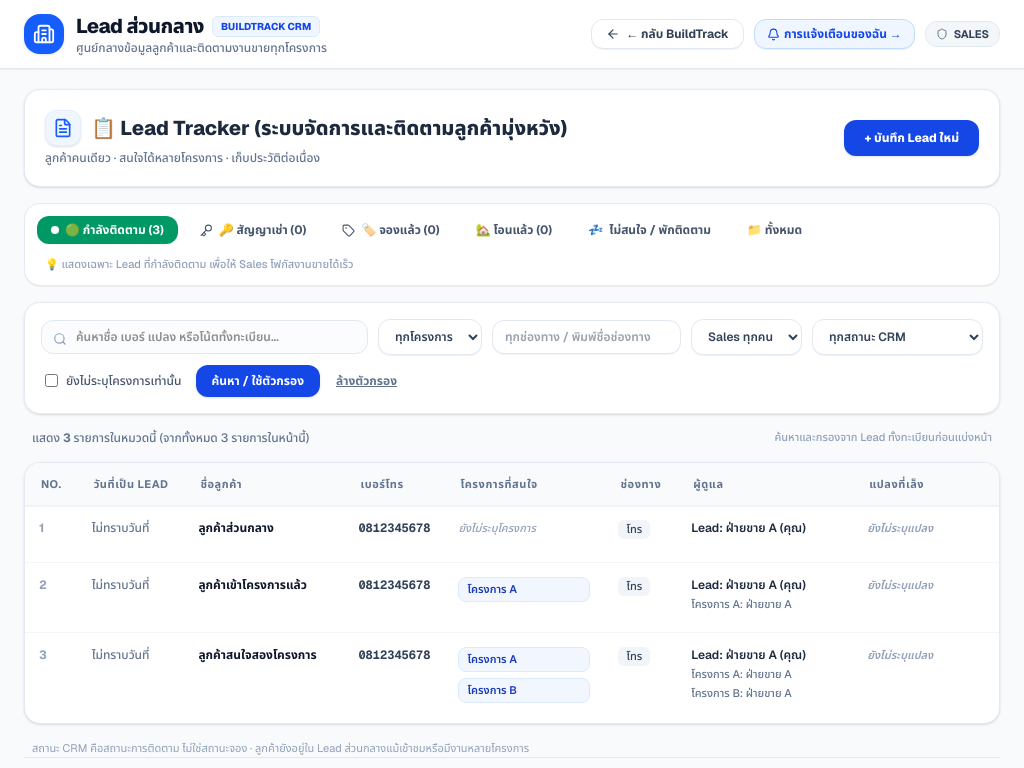
Test case: central lead workspace › hides the inbox while disabled or an intake form is open
Expected: the table is shown, 25,462 -> 999,723
What coordinates should you click on to do the following:
click the button "+ บันทึก Lead ใหม่"
I would click on:
 (912, 138)
Its box is 844,120 -> 979,156.
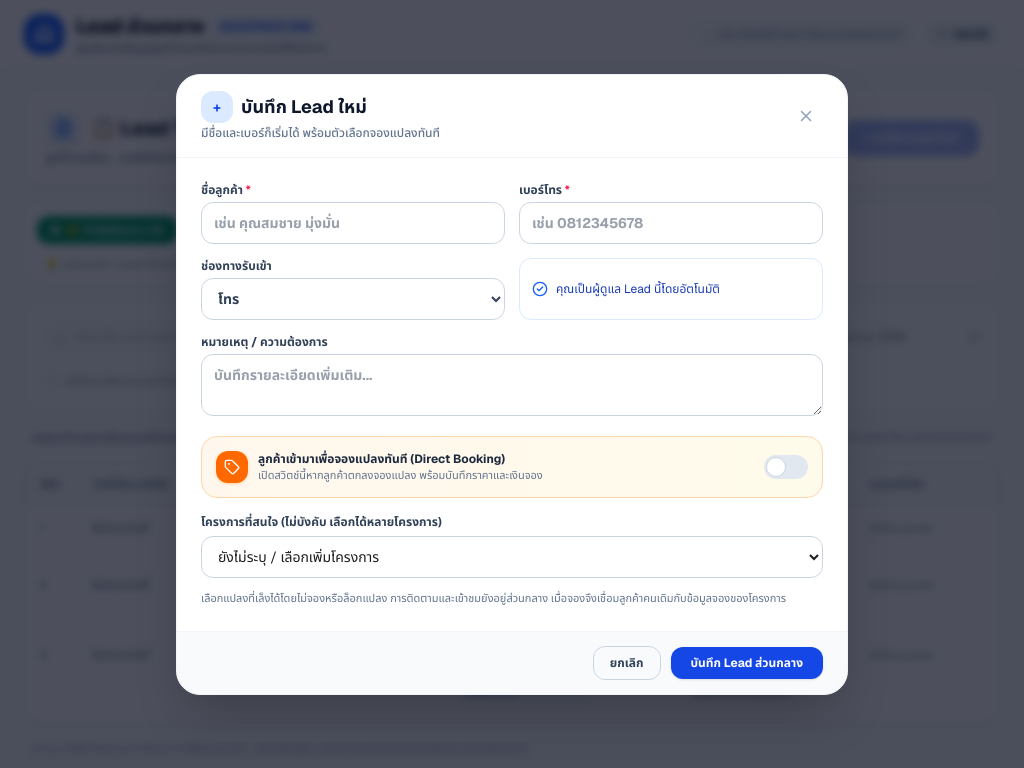
Now the link "การแจ้งเตือนของฉัน →" is gone
